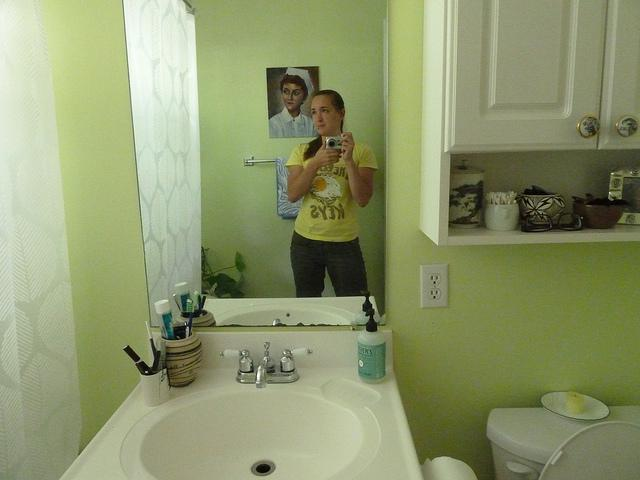Lavamanos: (108, 342, 379, 479)
